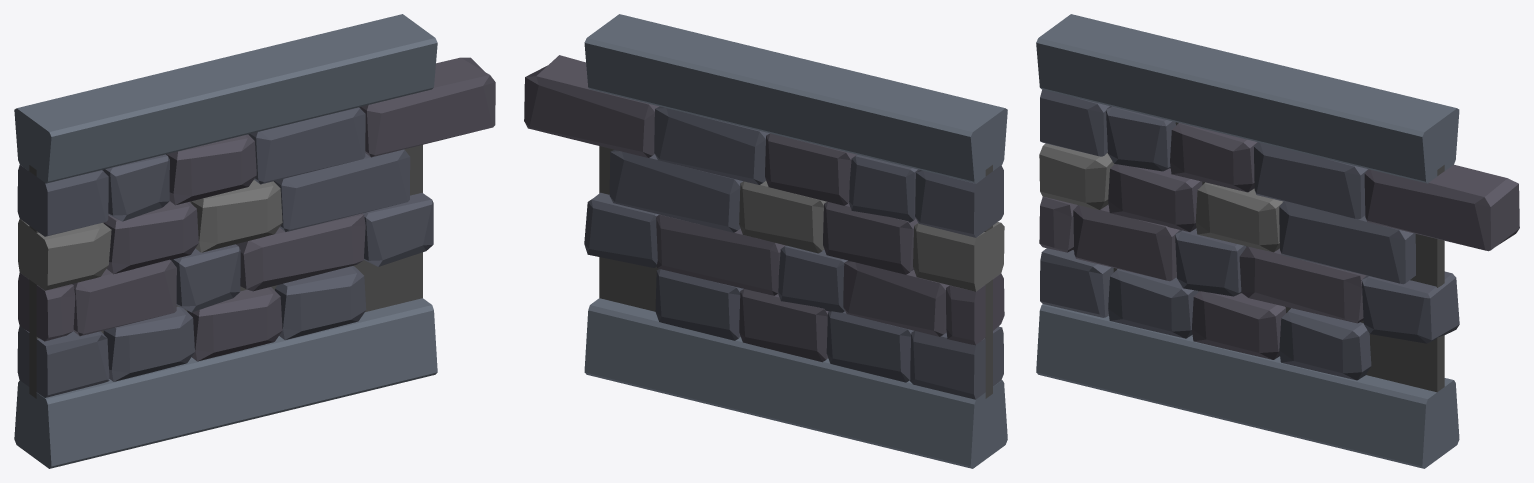
File: Brick_Wall_Right.fbx
3 views of the same model, side by side, from view 1: azimuth 30°, elevation 25°; view 2: azimuth 150°, elevation 25°; view 3: azimuth 330°, elevation 25° (orthographic).
Parts seen in each view (by area): view 1: Muro_Ladrillo_Der; view 2: Muro_Ladrillo_Der; view 3: Muro_Ladrillo_Der.
Boxes of the visible parts, <box> form: Muro_Ladrillo_Der: <box>14,14,495,468</box>; Muro_Ladrillo_Der: <box>524,14,1007,468</box>; Muro_Ladrillo_Der: <box>1036,14,1519,468</box>.
Size of the model in its own units: 702 by 500 by 100.
